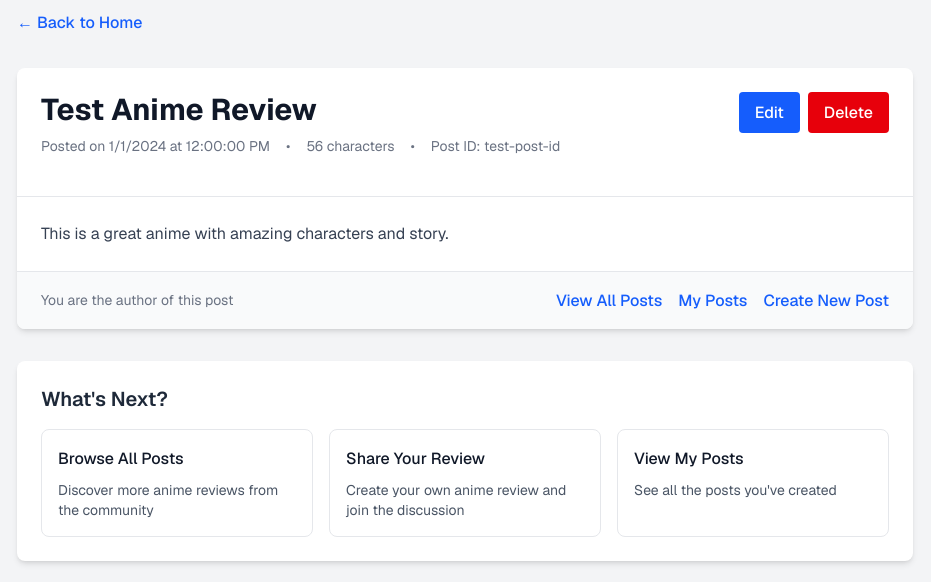
Test: PostDetail › Post Deletion › shows loading state during deletion
Click the button "Delete": (848, 112) [808,92,889,133]
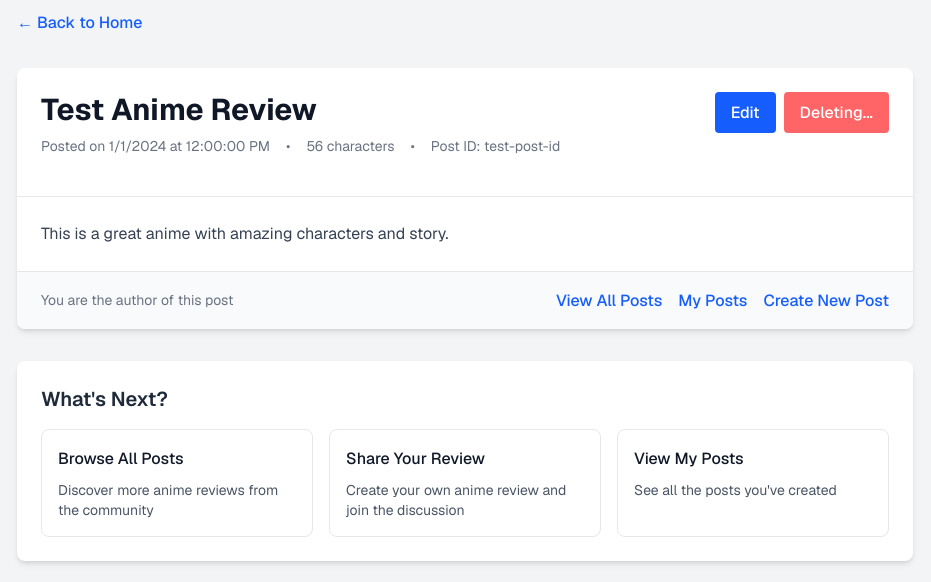
Now the button "Deleting..." is disabled, box [784,92,889,133]
